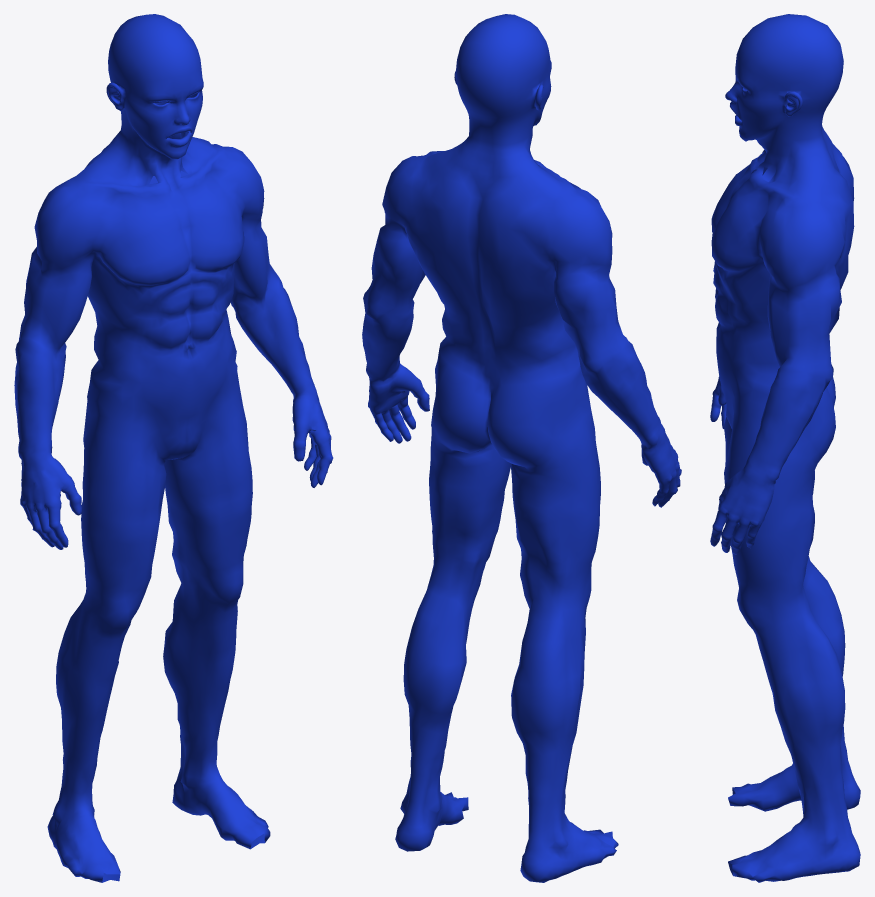
File: Human.fbx
3 views of the same model, side by side, from view 1: azimuth 30°, elevation 25°; view 2: azimuth 150°, elevation 25°; view 3: azimuth 270°, elevation 25° (orthographic).
Visible parts, largest first — view 1: Box008; view 2: Box008; view 3: Box008.
Part boxes in pixels (<box>): Box008: <box>14,14,333,882</box>; Box008: <box>362,14,681,882</box>; Box008: <box>710,14,860,882</box>.
Bounding box in the file's own units: 110 × 289 × 47.69.
